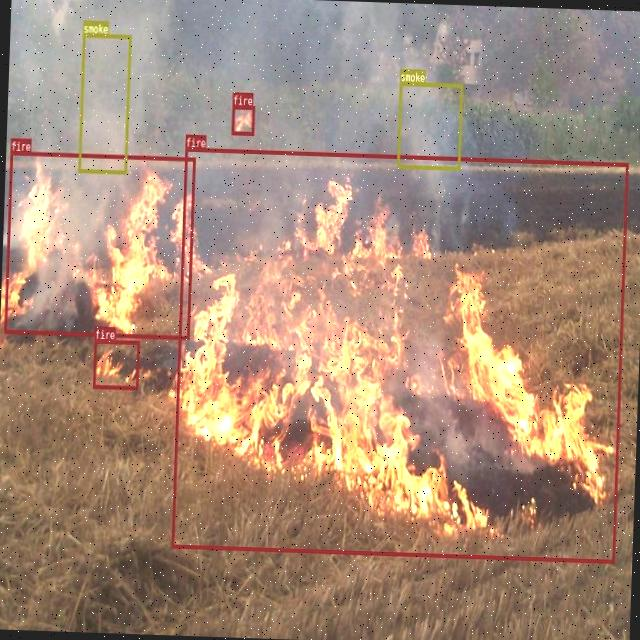fire: (170, 147, 628, 562), (4, 150, 195, 339), (92, 338, 139, 388), (230, 104, 254, 134)
smoke: (78, 32, 130, 173), (397, 80, 462, 168)
